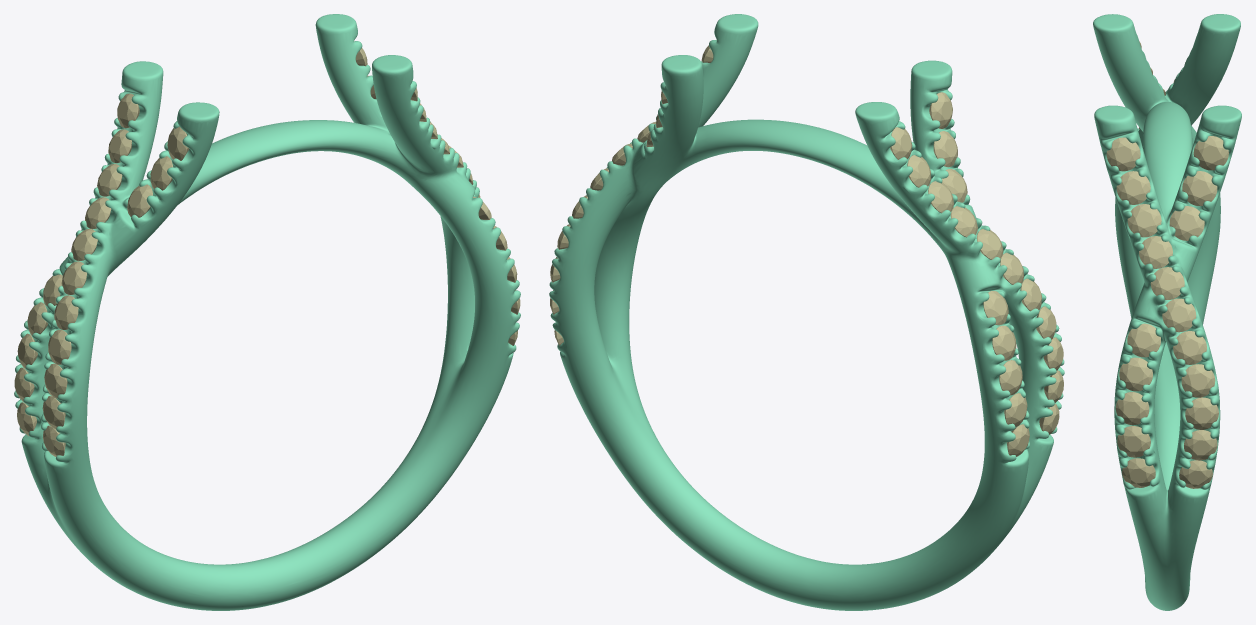
3 views of the same model, side by side, from view 1: azimuth 30°, elevation 25°; view 2: azimuth 150°, elevation 25°; view 3: azimuth 270°, elevation 25° (orthographic). The views are drawn at different scales.
Parts seen in each view (by area): view 1: Metal02; view 2: Metal02; view 3: Metal02, Diamond_Gem.025, Diamond_Gem.024, Diamond_Gem.026, Diamond_Gem.030, Diamond_Gem.031, Diamond_Gem.020, Diamond_Gem.027, Diamond_Gem.036, Diamond_Gem.034, Diamond_Gem.019, Diamond_Gem.035 (+8 smaller).
Boxes of the visible parts, left/top/right/bottom form: Metal02: left=14, top=14, right=520, bottom=610; Metal02: left=549, top=14, right=1064, bottom=610; Metal02: left=1093, top=14, right=1241, bottom=610; Diamond_Gem.025: left=1182, top=171, right=1217, bottom=205; Diamond_Gem.024: left=1169, top=206, right=1204, bottom=240; Diamond_Gem.026: left=1193, top=136, right=1228, bottom=170; Diamond_Gem.030: left=1116, top=171, right=1150, bottom=204; Diamond_Gem.031: left=1127, top=204, right=1161, bottom=237; Diamond_Gem.020: left=1119, top=357, right=1152, bottom=391; Diamond_Gem.027: left=1106, top=137, right=1140, bottom=171; Diamond_Gem.036: left=1181, top=364, right=1215, bottom=397; Diamond_Gem.034: left=1162, top=298, right=1196, bottom=332; Diamond_Gem.019: left=1127, top=323, right=1160, bottom=357; Diamond_Gem.035: left=1173, top=331, right=1206, bottom=364.
Bounding box in the file's own units: 21.09 × 22.85 × 5.94.
